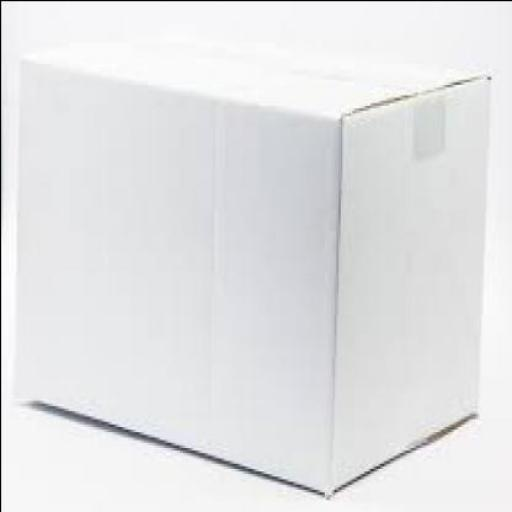cardboard: (18, 47, 494, 488)
